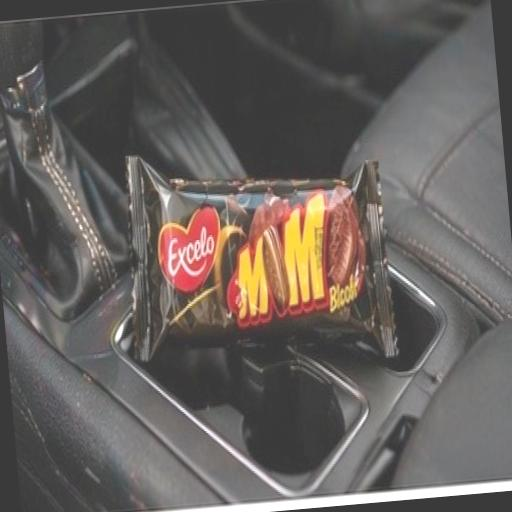MOMO: (83, 88, 428, 428)
